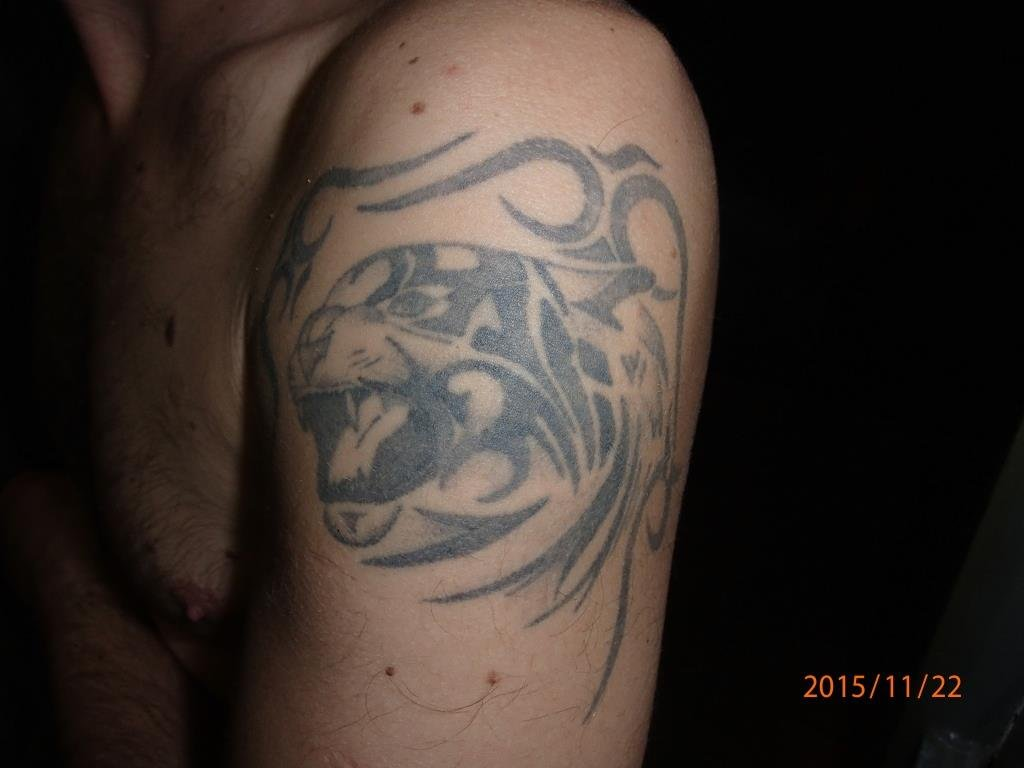tatu5_tigr: (224, 96, 698, 727)
